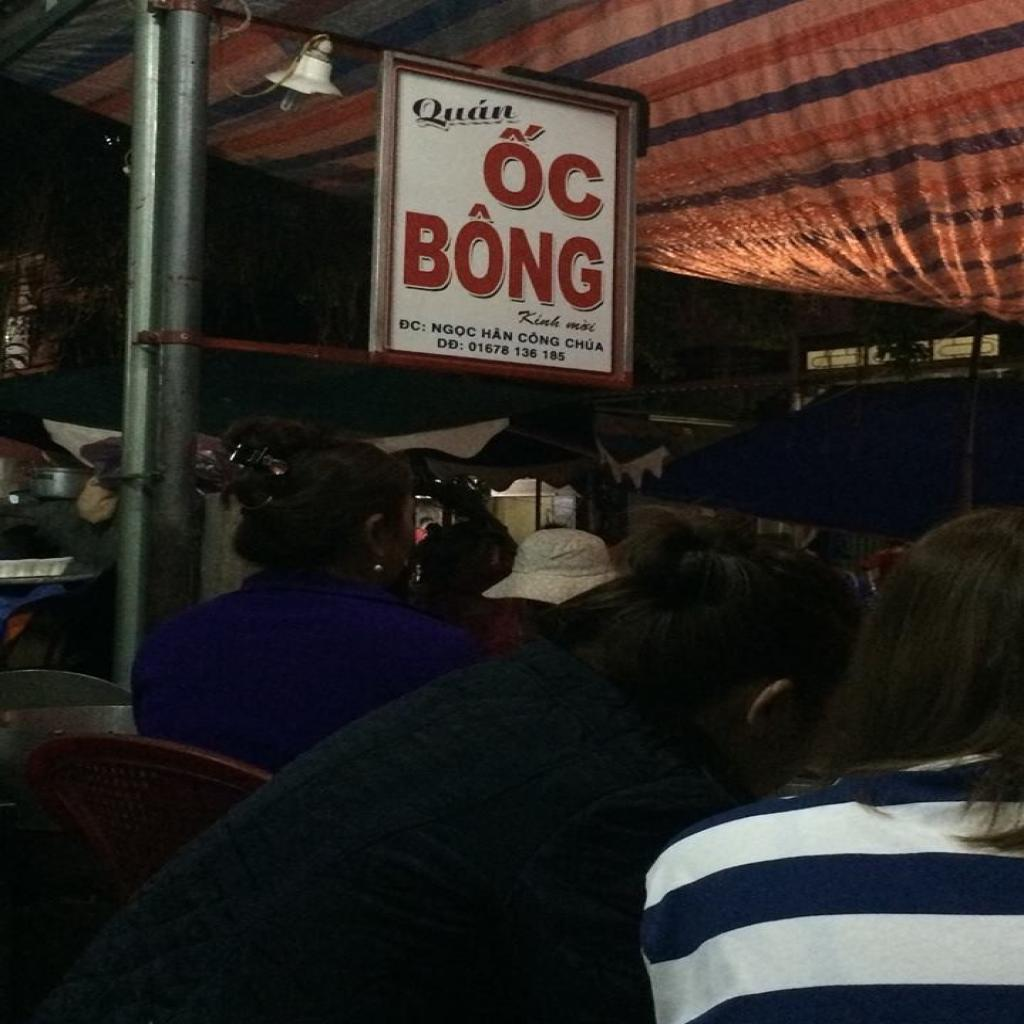text: (402, 189, 606, 316), (473, 121, 606, 226), (412, 95, 525, 129), (513, 308, 566, 330), (431, 321, 478, 340), (516, 330, 562, 348), (564, 334, 606, 353), (481, 324, 516, 344), (565, 317, 600, 334), (400, 317, 428, 334), (437, 337, 465, 352)
